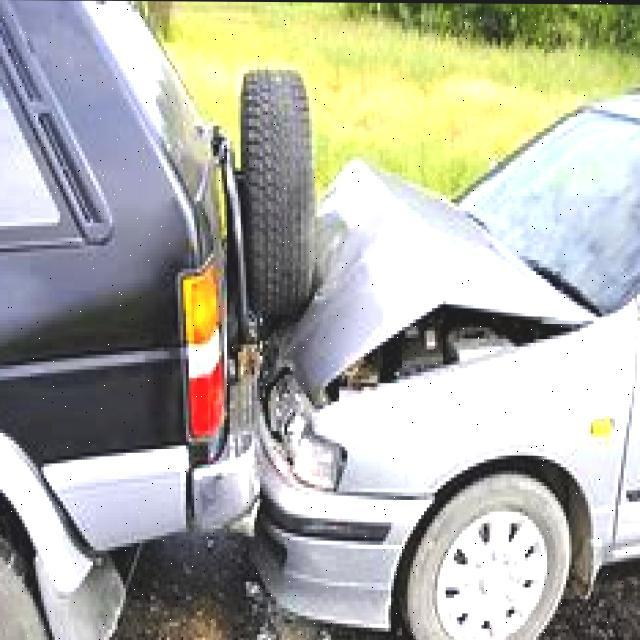multiple_accident: (156, 94, 574, 554)
